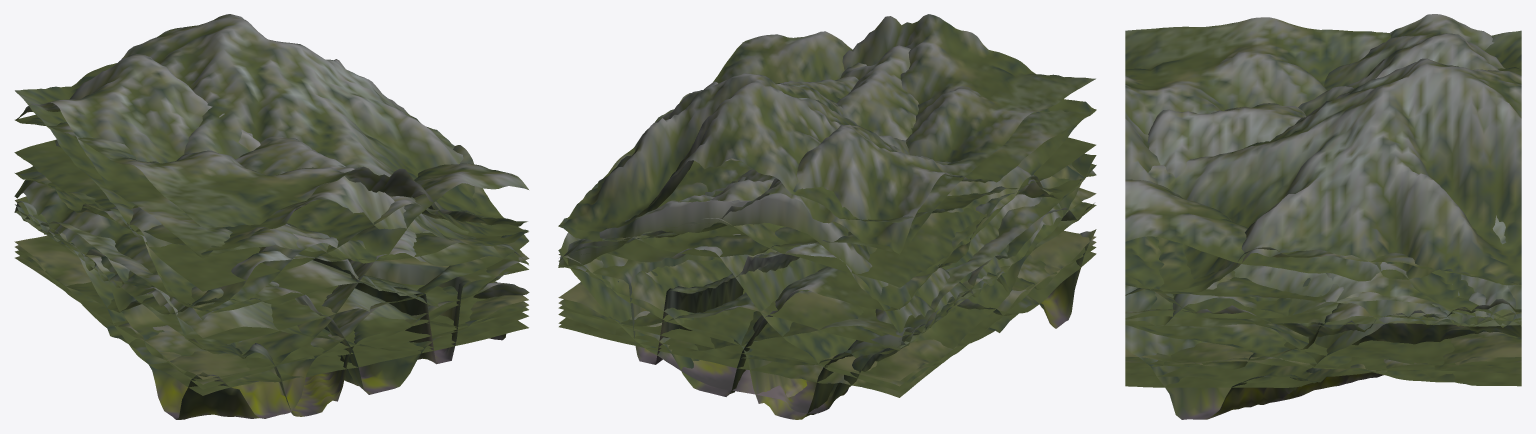
The model's file is LowPolyTerrain.fbx.
3 views of the same model, side by side, from view 1: azimuth 30°, elevation 25°; view 2: azimuth 150°, elevation 25°; view 3: azimuth 270°, elevation 25° (orthographic). The views are drawn at different scales.
Parts seen in each view (by area): view 1: Terrain.012, Terrain.014, Terrain.013, Terrain.004, Terrain.015, Terrain.007, Terrain.010, Terrain, Terrain.009, Terrain.001, Terrain.011, Terrain.005 (+4 smaller); view 2: Terrain.012, Terrain.013, Terrain, Terrain.014, Terrain.015, Terrain.007, Terrain.010, Terrain.009, Terrain.005, Terrain.011, Terrain.008, Terrain.004 (+4 smaller); view 3: Terrain.012, Terrain.013, Terrain.015, Terrain, Terrain.014, Terrain.008, Terrain.001, Terrain.007, Terrain.002, Terrain.011, Terrain.004, Terrain.003 (+4 smaller).
Boxes of the visible parts, <box> form: Terrain.012: <box>15,14,527,291</box>; Terrain.014: <box>15,54,528,260</box>; Terrain.013: <box>15,114,528,236</box>; Terrain.004: <box>14,226,528,419</box>; Terrain.015: <box>14,136,528,265</box>; Terrain.007: <box>14,139,528,351</box>; Terrain.010: <box>17,210,528,364</box>; Terrain: <box>15,163,528,320</box>; Terrain.009: <box>15,166,528,394</box>; Terrain.001: <box>15,229,528,389</box>; Terrain.011: <box>15,204,529,416</box>; Terrain.005: <box>15,211,528,379</box>; Terrain.012: <box>559,62,1095,231</box>; Terrain.013: <box>558,14,1095,256</box>; Terrain: <box>559,31,1096,391</box>; Terrain.014: <box>558,109,1096,261</box>; Terrain.015: <box>559,45,1096,287</box>; Terrain.007: <box>558,188,1096,333</box>; Terrain.010: <box>558,163,1096,419</box>; Terrain.009: <box>559,165,1095,364</box>; Terrain.005: <box>558,230,1095,349</box>; Terrain.011: <box>558,203,1094,413</box>; Terrain.008: <box>558,153,1096,396</box>; Terrain.004: <box>558,229,1096,380</box>; Terrain.012: <box>1125,30,1521,292</box>; Terrain.013: <box>1125,17,1521,290</box>; Terrain.015: <box>1125,103,1521,327</box>; Terrain: <box>1125,179,1521,320</box>; Terrain.014: <box>1125,14,1521,324</box>; Terrain.008: <box>1125,325,1521,419</box>; Terrain.001: <box>1125,264,1521,324</box>; Terrain.007: <box>1125,215,1521,382</box>; Terrain.002: <box>1125,321,1521,386</box>; Terrain.011: <box>1125,298,1521,345</box>; Terrain.004: <box>1125,288,1521,367</box>; Terrain.003: <box>1125,363,1521,387</box>.
Size of the model in its own units: 1024 by 1024 by 816.
